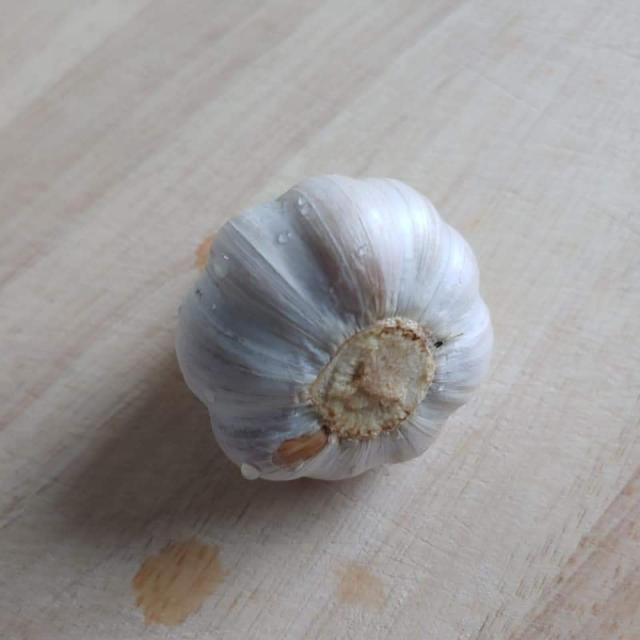garlic: (172, 175, 500, 490)
